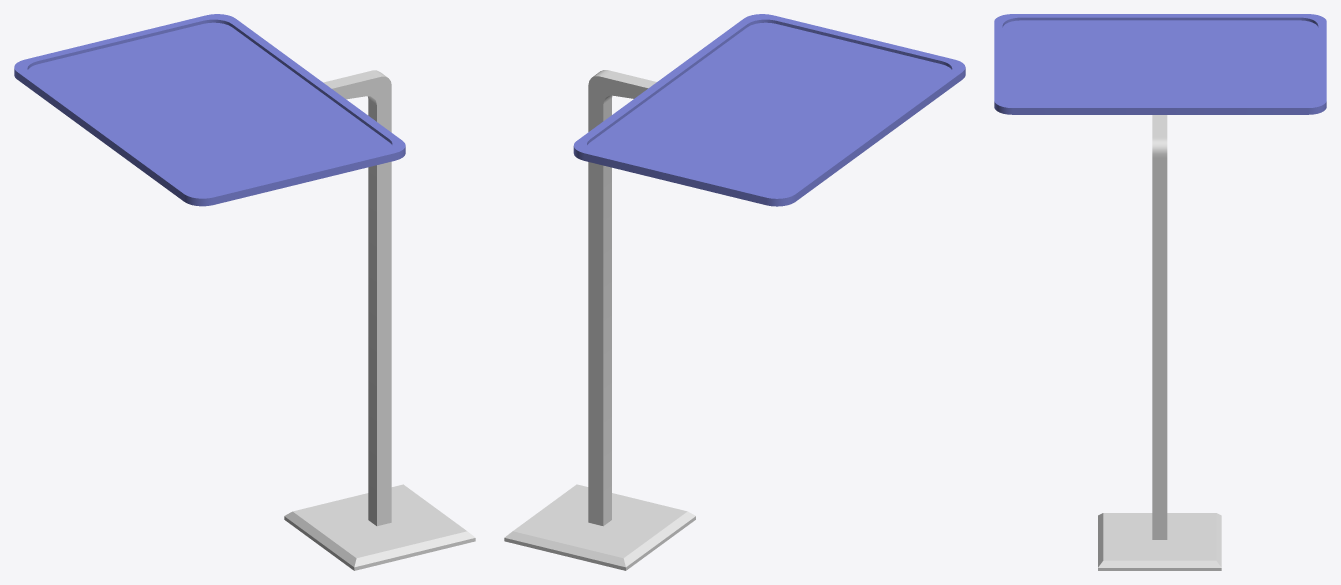
File: Stand.fbx
3 views of the same model, side by side, from view 1: azimuth 30°, elevation 25°; view 2: azimuth 150°, elevation 25°; view 3: azimuth 270°, elevation 25° (orthographic). The views are drawn at different scales.
Parts seen in each view (by area): view 1: Stand; view 2: Stand; view 3: Stand.
Boxes of the visible parts, x1=… form: Stand: x1=14, y1=14, x2=475, y2=570; Stand: x1=504, y1=14, x2=965, y2=570; Stand: x1=994, y1=14, x2=1326, y2=570.
Size of the model in its own units: 0.7849 by 1.03 by 0.7542.
